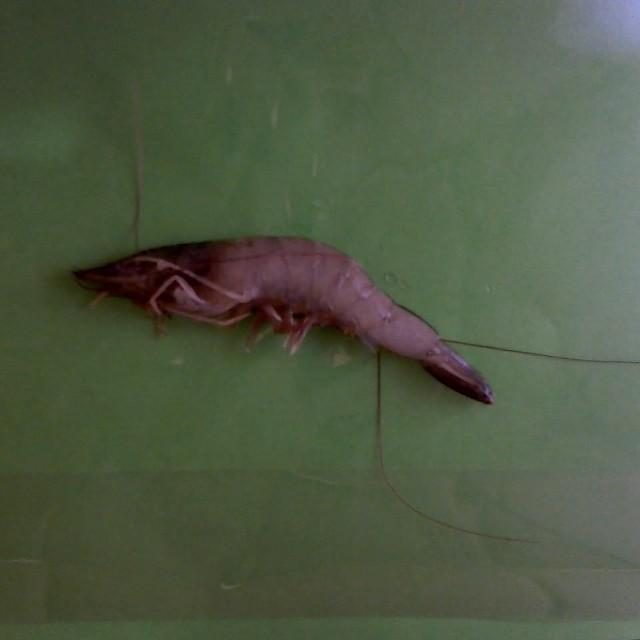shrimp: (74, 237, 494, 404)
